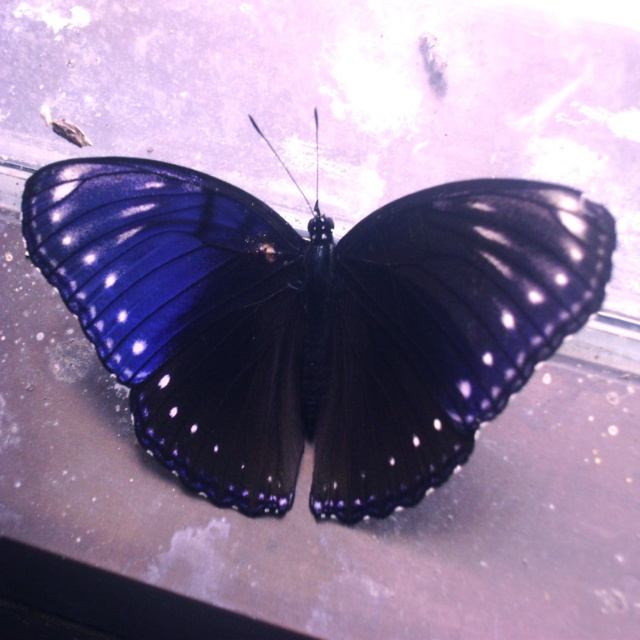Butterfly: (22, 104, 618, 523)
